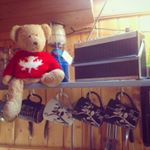cups: (103, 91, 141, 132), (71, 90, 105, 129), (42, 90, 75, 128), (16, 93, 47, 124)
